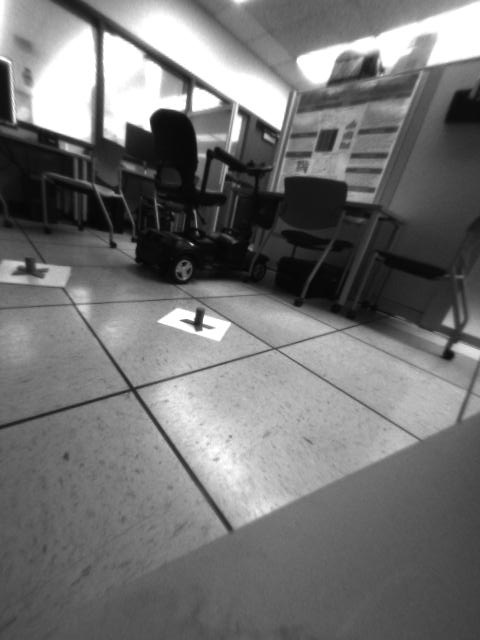X: (10, 256, 49, 280), (179, 306, 214, 331)
